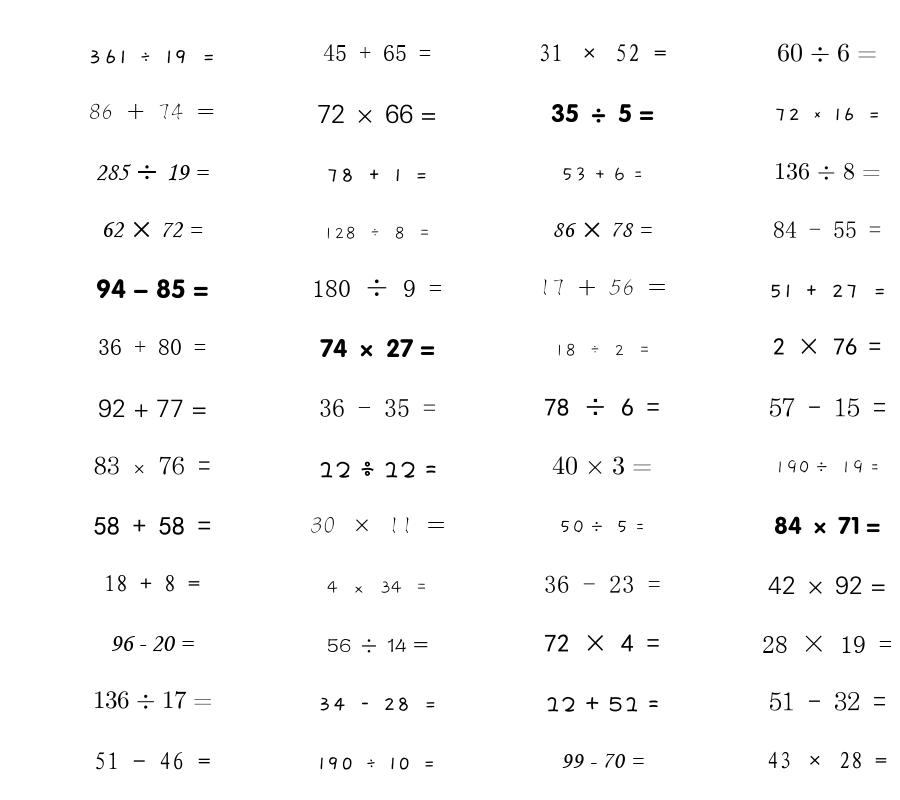MQ: (317, 104, 437, 124), (312, 279, 442, 297), (762, 635, 892, 653), (769, 691, 886, 711), (538, 44, 667, 62), (320, 338, 435, 358), (310, 517, 445, 534), (96, 279, 209, 299), (768, 576, 886, 595), (769, 398, 886, 417), (94, 456, 211, 475), (94, 516, 211, 535), (767, 751, 887, 769), (539, 279, 666, 296), (89, 103, 215, 120), (93, 691, 212, 709), (319, 399, 436, 417), (544, 575, 661, 593), (94, 752, 211, 770), (544, 398, 660, 416), (544, 634, 660, 652), (98, 399, 207, 418), (551, 103, 654, 123), (318, 461, 437, 478), (774, 516, 880, 535), (95, 164, 209, 181), (774, 162, 881, 180), (88, 49, 216, 64), (777, 43, 877, 62), (552, 456, 652, 475), (323, 44, 431, 61), (773, 221, 881, 238), (773, 338, 881, 355), (545, 696, 659, 712), (101, 221, 203, 238), (98, 339, 206, 355), (104, 574, 200, 592), (768, 284, 887, 298), (318, 697, 437, 711), (552, 222, 652, 238), (318, 757, 436, 770), (327, 638, 428, 653), (323, 226, 431, 240), (774, 107, 881, 121), (774, 460, 880, 474), (326, 168, 428, 182), (554, 343, 651, 357), (110, 636, 194, 652), (327, 581, 428, 594), (561, 753, 644, 768), (561, 167, 643, 182), (559, 520, 645, 534)
